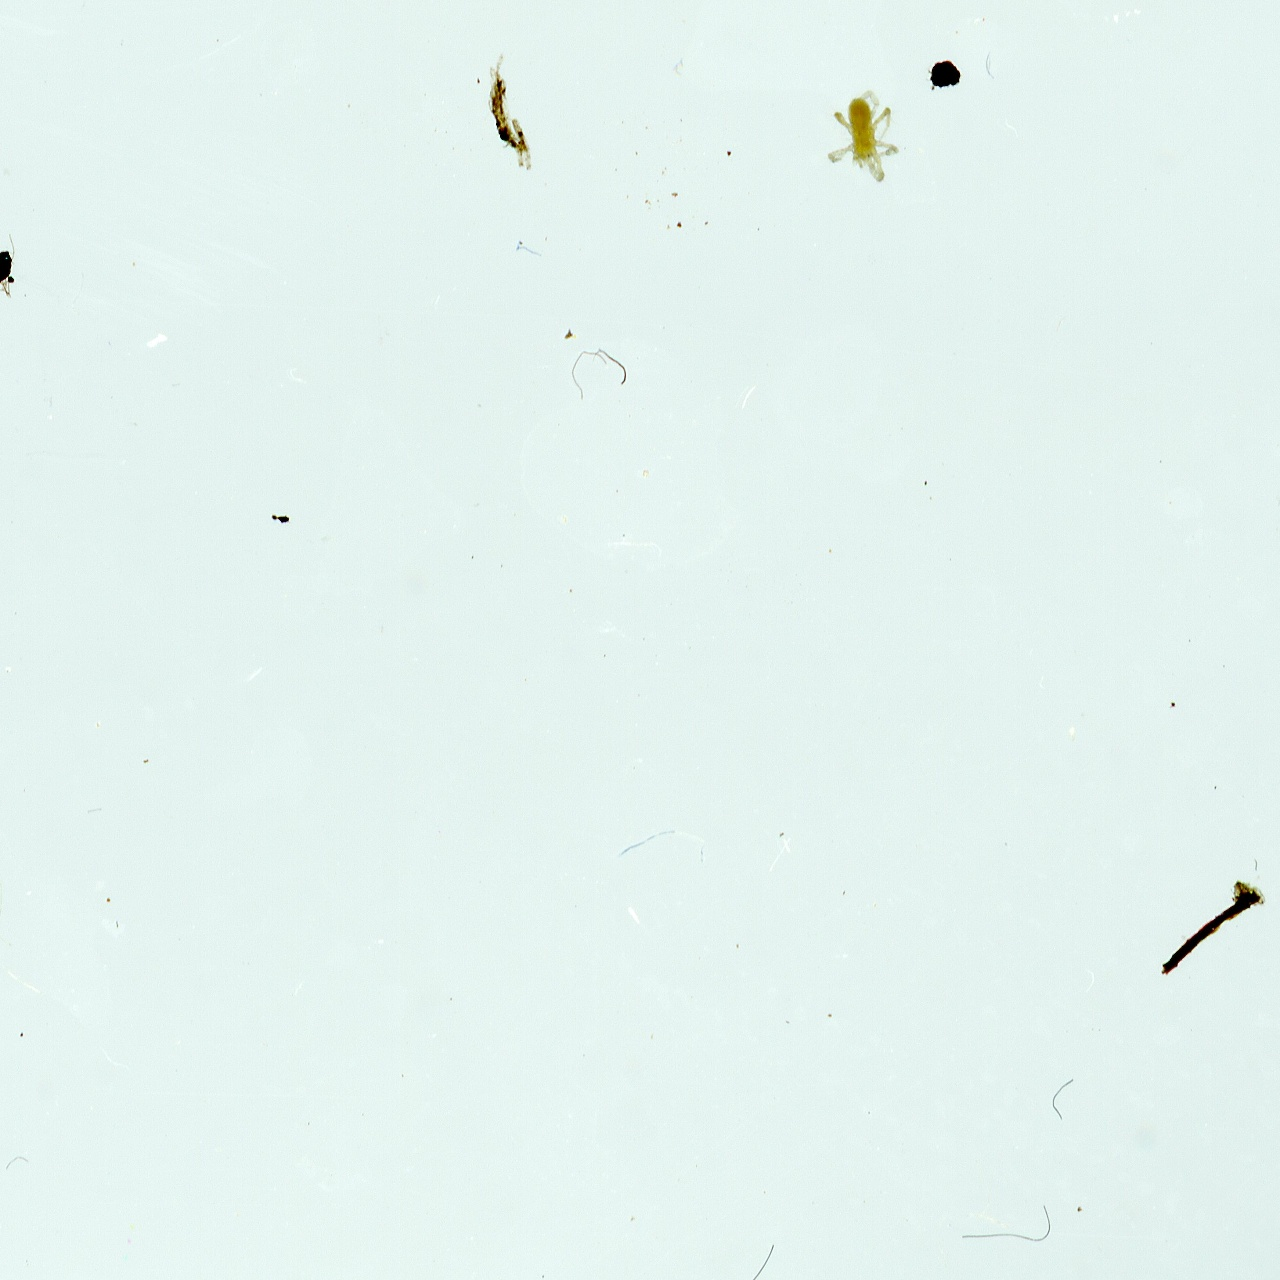arthropod: (825, 88, 903, 186)
